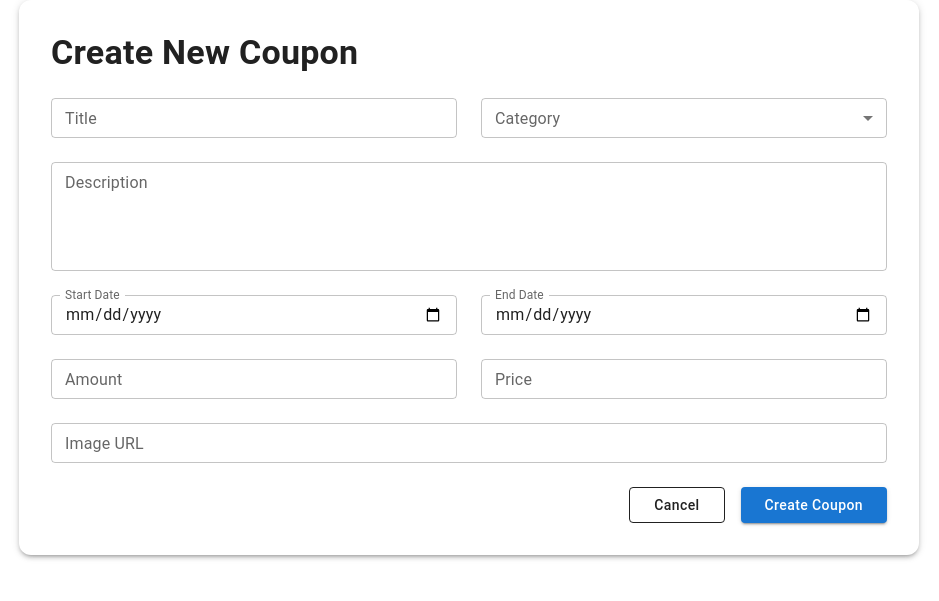
Test: CouponForm › Title Field Validation › should show error when title is empty on blur
Step 1. Click the field labelled "Title" → [254, 118], box [51, 98, 457, 138]
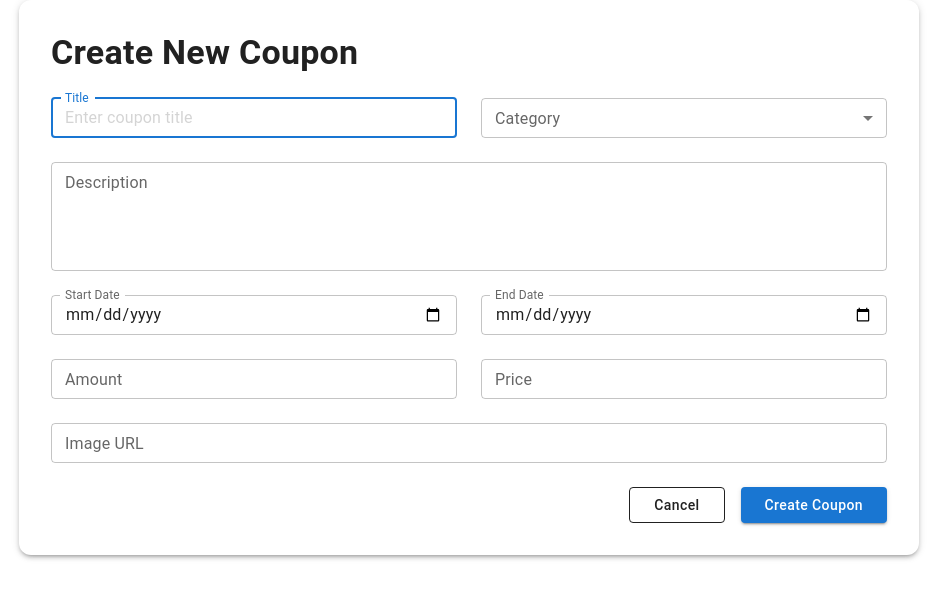
Step 2. Press Tab
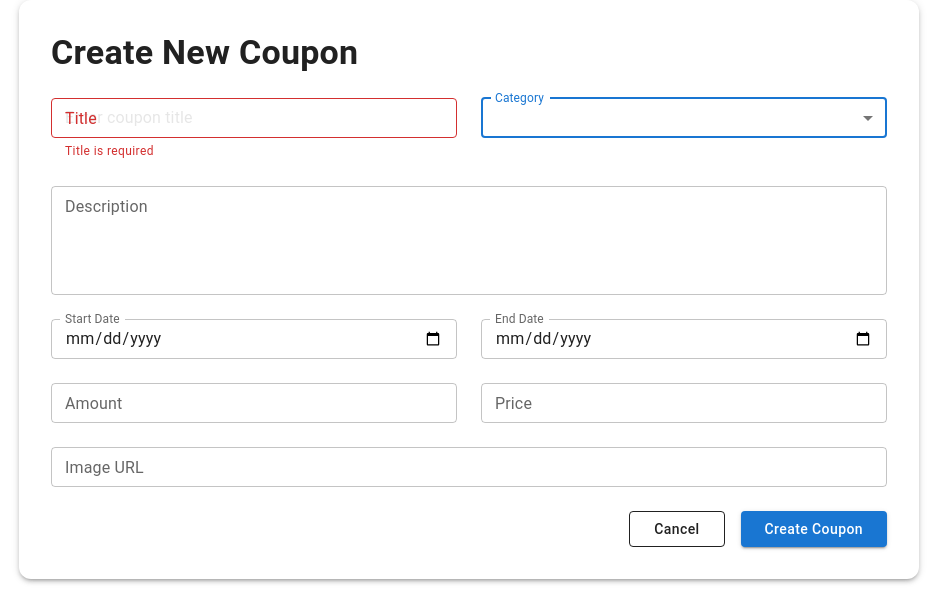
Now the text "Title is required" is shown, box [65, 144, 154, 158]
